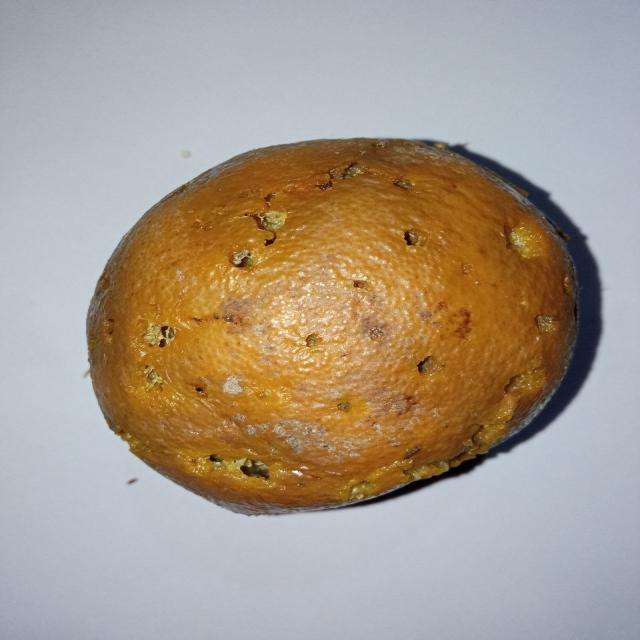rotten_orange: (90, 138, 583, 513)
